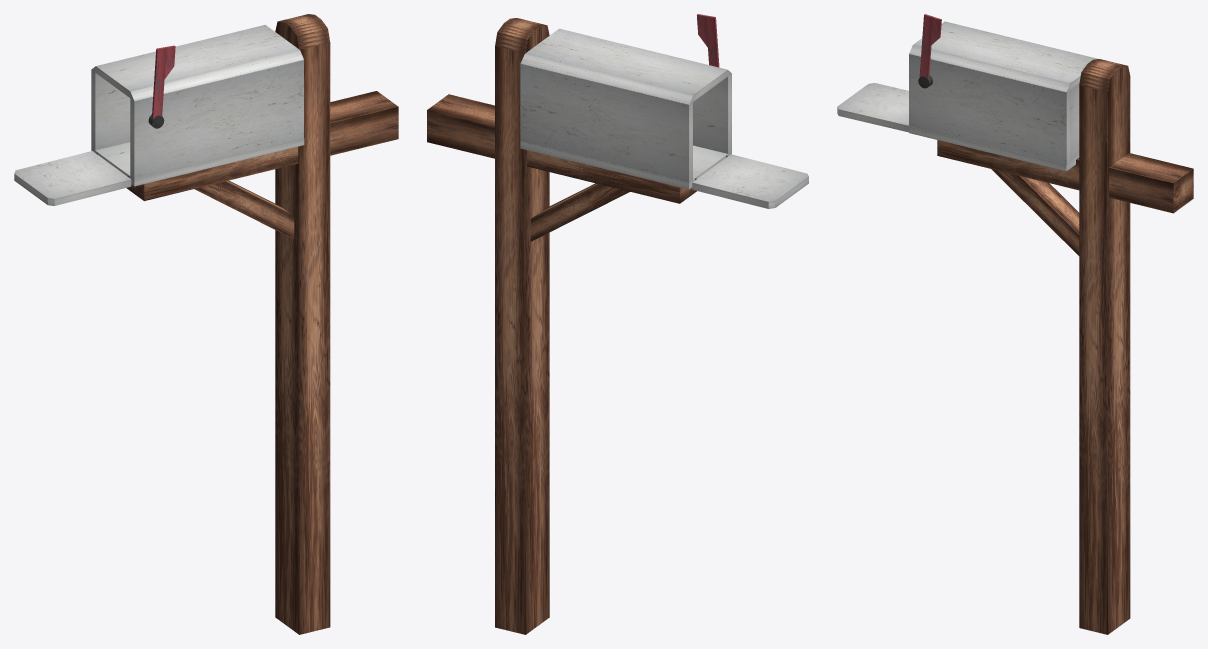
The model's file is MAIL.fbx.
3 renders of one model, left to right at view 1: azimuth 30°, elevation 25°; view 2: azimuth 150°, elevation 25°; view 3: azimuth 330°, elevation 25°, orthographic. The views are drawn at different scales.
Visible parts, largest first — view 1: Box001, Box004, Box006, Box002, Box007, Box005, Box009, Box003, Box010; view 2: Box001, Box005, Box006, Box002, Box007, Box004, Box009, Box003, Box010; view 3: Box001, Box004, Box002, Box006, Box009, Box007, Box003, Box008, Box010.
Part boxes in pixels (left/top/right/bottom): Box001: left=275, top=14, right=330, bottom=634; Box004: left=130, top=59, right=303, bottom=178; Box006: left=91, top=24, right=303, bottom=101; Box002: left=126, top=91, right=398, bottom=200; Box007: left=14, top=151, right=131, bottom=205; Box005: left=91, top=70, right=130, bottom=150; Box009: left=194, top=180, right=294, bottom=238; Box003: left=91, top=138, right=304, bottom=186; Box010: left=151, top=47, right=166, bottom=119; Box001: left=495, top=18, right=549, bottom=634; Box005: left=520, top=63, right=692, bottom=182; Box006: left=520, top=28, right=731, bottom=104; Box002: left=427, top=94, right=696, bottom=203; Box007: left=692, top=154, right=808, bottom=208; Box004: left=693, top=73, right=731, bottom=153; Box009: left=530, top=183, right=629, bottom=241; Box003: left=520, top=141, right=731, bottom=189; Box010: left=705, top=15, right=719, bottom=67; Box001: left=1079, top=59, right=1130, bottom=634; Box004: left=909, top=53, right=1070, bottom=164; Box002: left=937, top=140, right=1193, bottom=213; Box006: left=909, top=21, right=1097, bottom=92; Box009: left=991, top=169, right=1079, bottom=255; Box007: left=837, top=83, right=908, bottom=132; Box003: left=909, top=126, right=1079, bottom=171; Box008: left=1070, top=83, right=1079, bottom=161; Box010: left=919, top=14, right=932, bottom=78.
Size of the model in its own units: 25.19 by 42.69 by 5.76.
4 materials, 4 textured.
